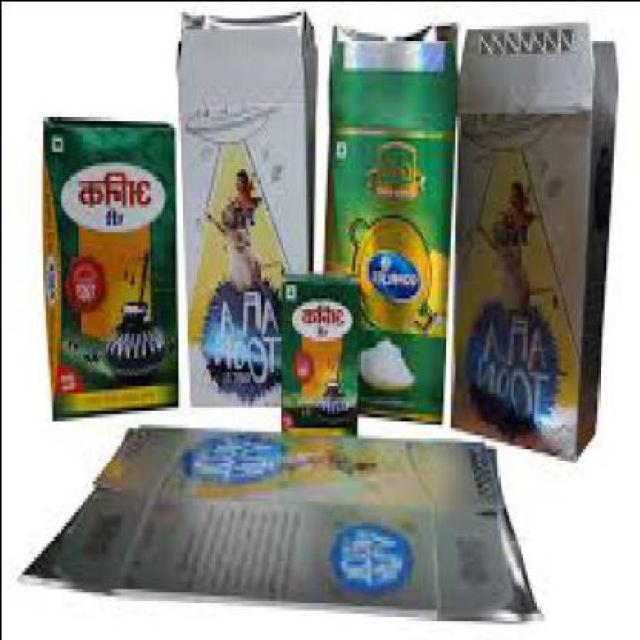CARDBOARD: (21, 422, 542, 620), (452, 24, 620, 462), (179, 7, 319, 405), (325, 21, 461, 419), (44, 112, 179, 416), (282, 273, 363, 430)
